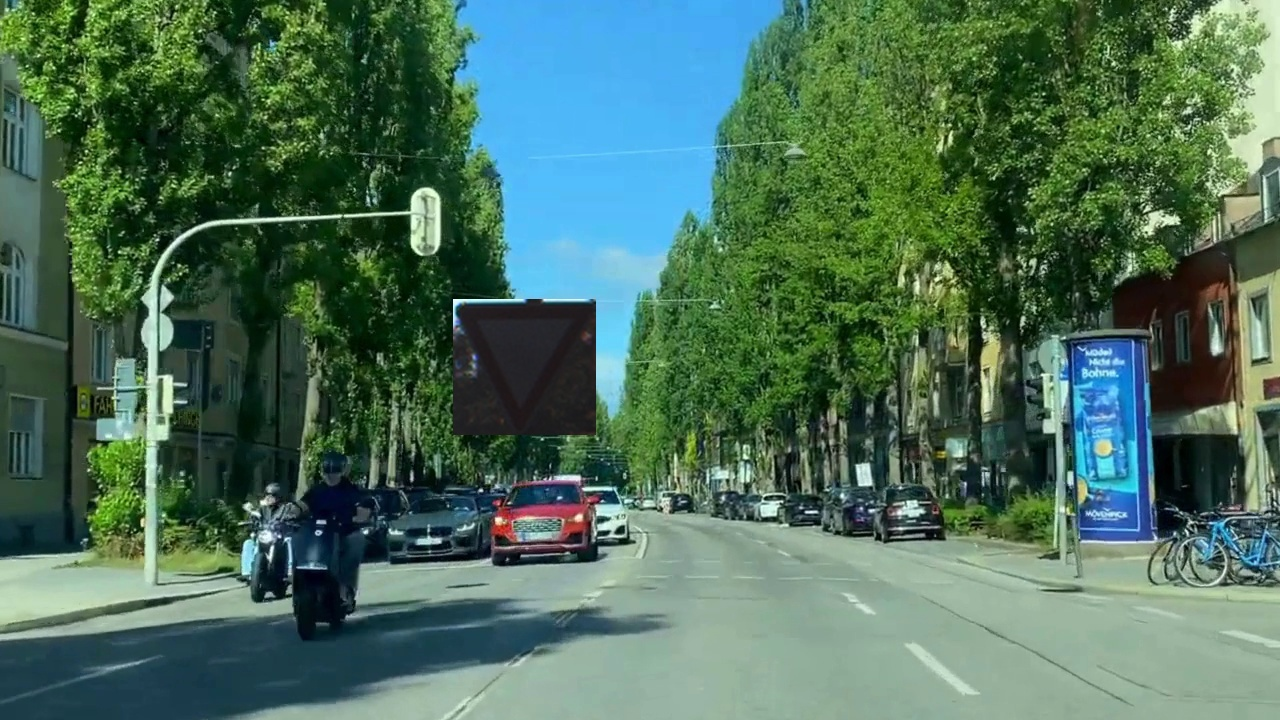Yield: (453, 299, 596, 435)
